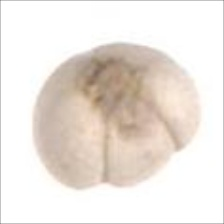L5: (99, 96, 183, 188), (78, 56, 146, 116)
L6: (30, 40, 202, 194)
